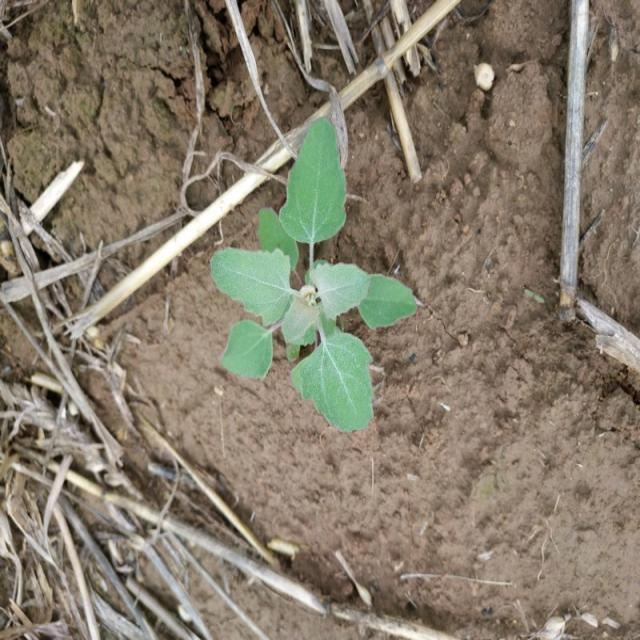goosefoots: (215, 112, 418, 438)
